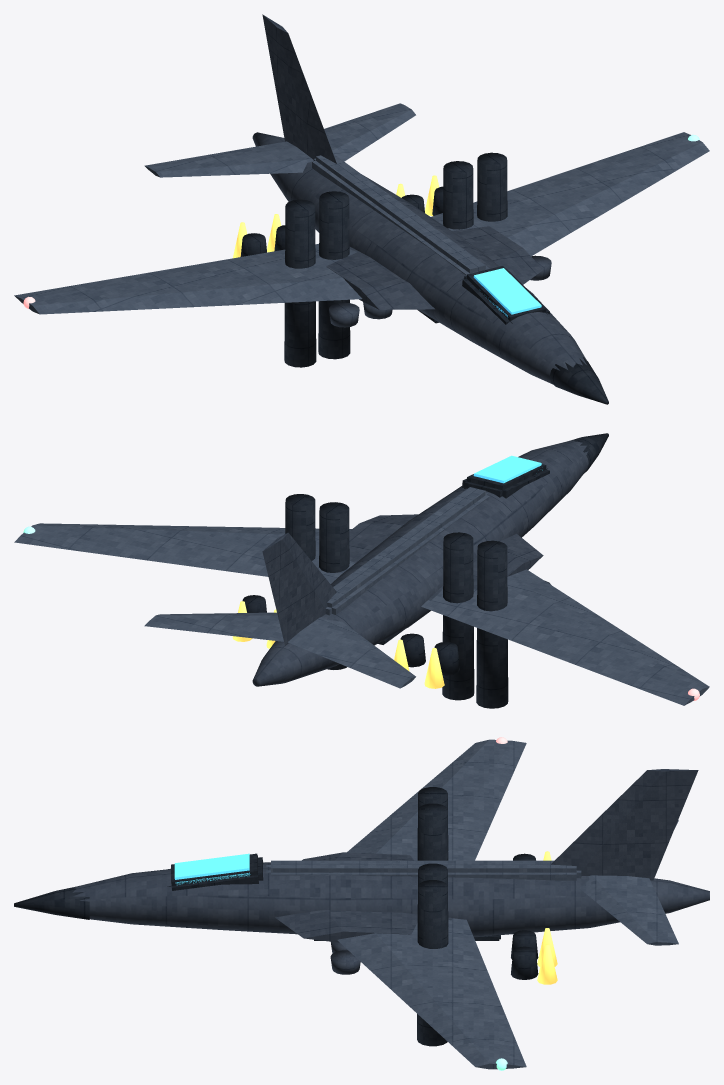
The model's file is air_bomber.glb.
3 views of the same model, one above another, from view 1: azimuth 30°, elevation 25°; view 2: azimuth 150°, elevation 25°; view 3: azimuth 270°, elevation 25° (orthographic).
Visible parts, largest first — view 1: BomberFuselage, MainWing_R, MainWing_L, VerticalTail, DorsalSpine, Nacelle_-1_0.96, TailStab_R, Nacelle_-1_0.62, WingGlove_R, TailStab_L, WingGlove_L, Nacelle_1_0.96 (+5 smaller); view 2: BomberFuselage, MainWing_R, MainWing_L, VerticalTail, Nacelle_-1_0.96, DorsalSpine, Nacelle_-1_0.62, TailStab_R, TailStab_L, Nacelle_1_0.62, Nacelle_1_0.96, WingGlove_L (+7 smaller); view 3: BomberFuselage, MainWing_L, VerticalTail, MainWing_R, DorsalSpine, TailStab_L, WingGlove_L, Nacelle_1_0.96, Nacelle_-1_0.62, CockpitGlass, BomberRadome, CockpitFrame (+6 smaller).
Boxes of the visible parts, x1,y1,x2,y2 form: BomberFuselage: (252, 132, 587, 384); MainWing_R: (14, 244, 362, 314); MainWing_L: (431, 132, 709, 256); VerticalTail: (262, 14, 336, 163); DorsalSpine: (312, 154, 489, 275); Nacelle_-1_0.96: (284, 199, 316, 367); TailStab_R: (144, 141, 313, 177); Nacelle_-1_0.62: (318, 191, 350, 359); WingGlove_R: (326, 247, 434, 309); TailStab_L: (324, 103, 415, 161); WingGlove_L: (452, 226, 543, 284); Nacelle_1_0.96: (477, 152, 507, 221); BomberFuselage: (252, 440, 588, 686); MainWing_R: (421, 569, 709, 705); MainWing_L: (14, 523, 355, 583); VerticalTail: (262, 532, 336, 645); Nacelle_-1_0.96: (476, 540, 508, 708); DorsalSpine: (325, 487, 489, 615); Nacelle_-1_0.62: (442, 532, 474, 700); TailStab_R: (288, 617, 415, 688); TailStab_L: (144, 612, 283, 641); Nacelle_1_0.62: (319, 502, 349, 669); Nacelle_1_0.96: (285, 494, 315, 560); WingGlove_L: (349, 514, 418, 562); BomberFuselage: (61, 862, 709, 937); MainWing_L: (337, 918, 526, 1069); VerticalTail: (551, 769, 698, 880); MainWing_R: (347, 739, 526, 860); DorsalSpine: (266, 860, 581, 880); TailStab_L: (579, 875, 678, 945); WingGlove_L: (275, 910, 452, 942); Nacelle_1_0.96: (417, 880, 448, 1046); Nacelle_-1_0.62: (417, 803, 448, 860); CockpitGlass: (174, 853, 250, 885); BomberRadome: (14, 885, 89, 919); CockpitFrame: (167, 853, 263, 890).
Bounding box in the file's own units: 6.75 × 2.15 × 6.08.
7 materials, 3 textured.
